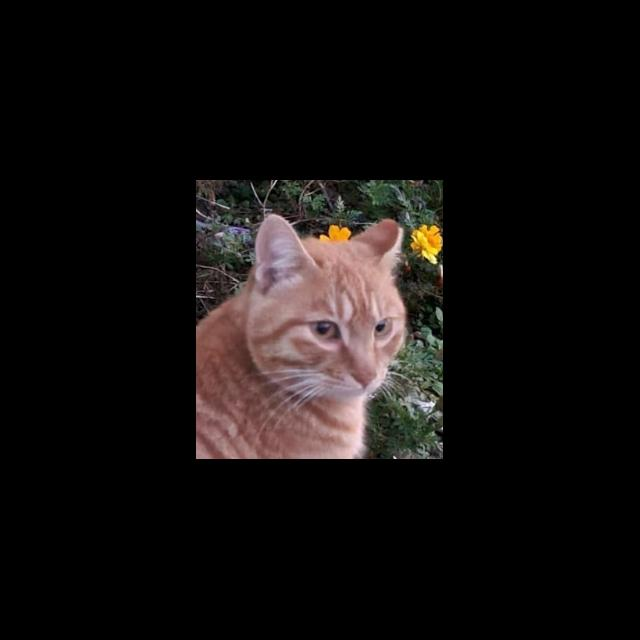animals: (248, 209, 409, 407)
